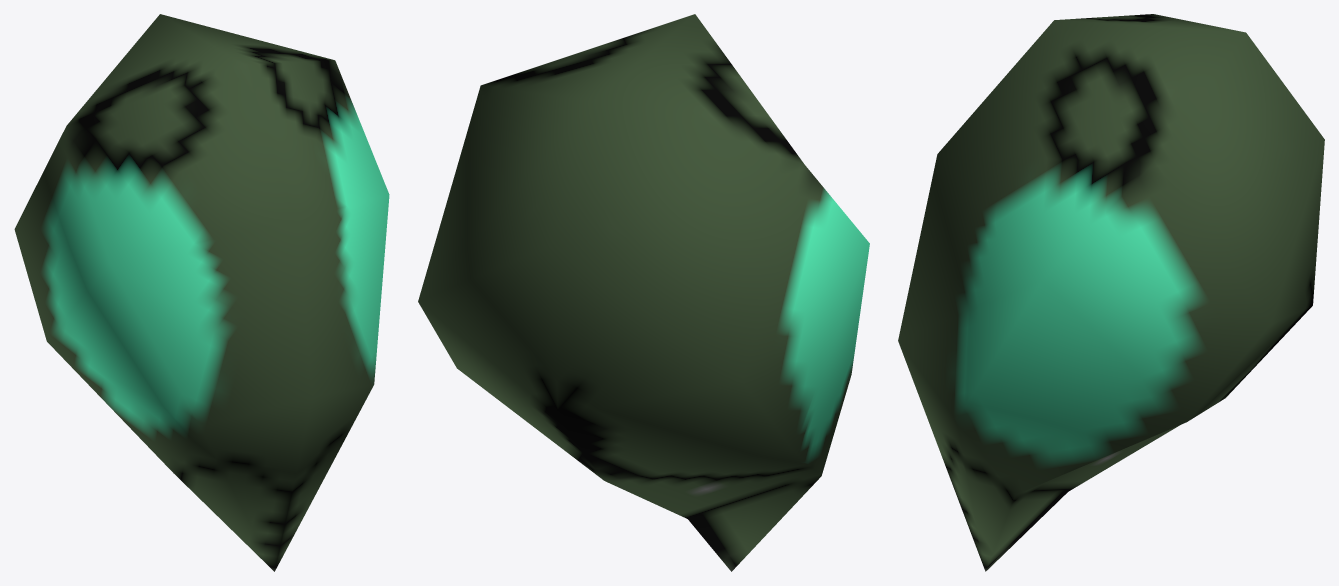
Rendered from wasp_head_isolated.fbx.
3 renders of one model, left to right at view 1: azimuth 30°, elevation 25°; view 2: azimuth 150°, elevation 25°; view 3: azimuth 270°, elevation 25°, orthographic. The views are drawn at different scales.
Parts seen in each view (by area): view 1: head; view 2: head; view 3: head.
Boxes of the visible parts, box(x1,y1,x2,y2) form: head: box(14, 14, 389, 571); head: box(418, 14, 869, 571); head: box(898, 14, 1324, 571).
Bounding box in the file's own units: 1.11 × 1.85 × 1.3.
